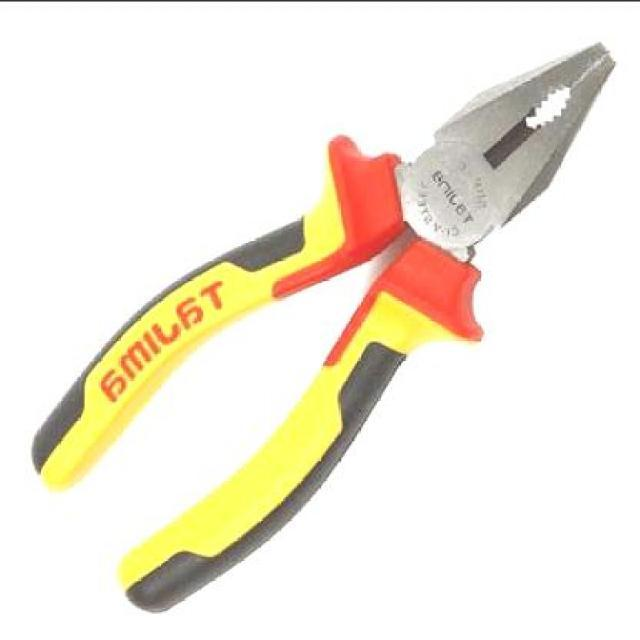pliers: (32, 42, 617, 610)
